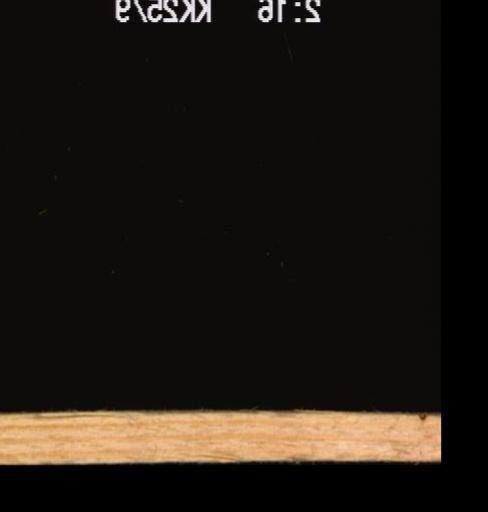edge_knot: (408, 410, 430, 427)
